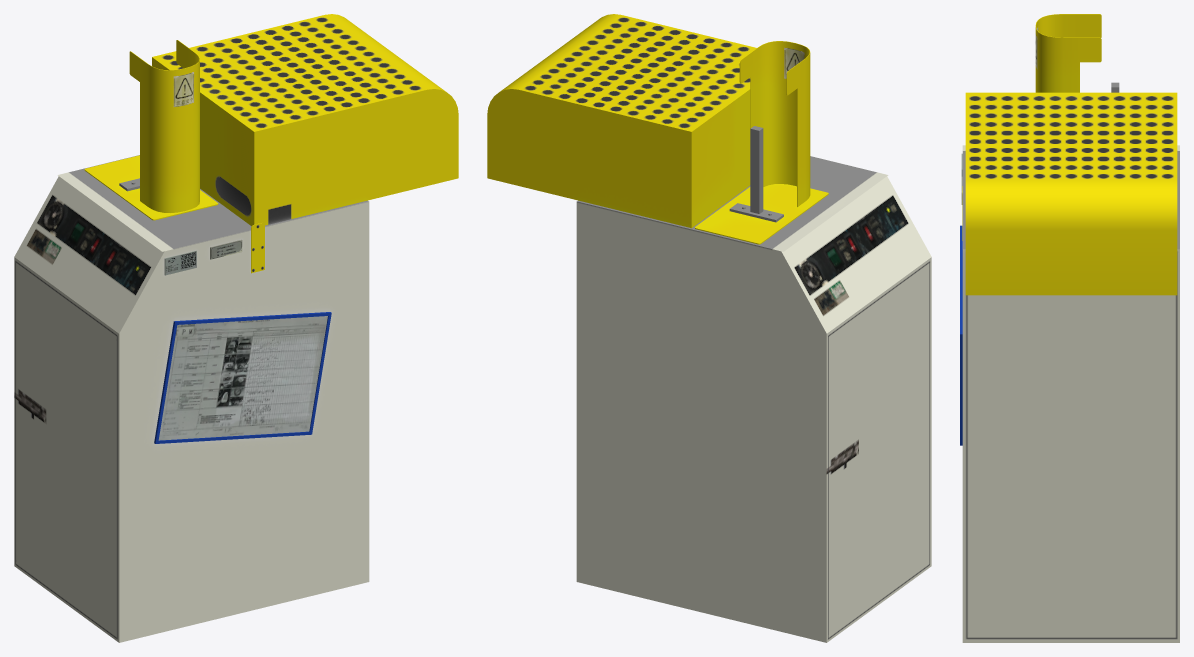
The model's file is xiaoyun.FBX.
3 views of the same model, side by side, from view 1: azimuth 30°, elevation 25°; view 2: azimuth 150°, elevation 25°; view 3: azimuth 270°, elevation 25° (orthographic). The views are drawn at different scales.
Visible parts, largest first — view 1: YF_Model_xiaoyun; view 2: YF_Model_xiaoyun; view 3: YF_Model_xiaoyun.
Part boxes in pixels (left/top/right/bottom): YF_Model_xiaoyun: left=14, top=14, right=458, bottom=642; YF_Model_xiaoyun: left=487, top=14, right=931, bottom=642; YF_Model_xiaoyun: left=960, top=14, right=1179, bottom=642.
Size of the model in its own units: 75 by 110 by 40.5.
Materials: 1 (1 with a texture image).
